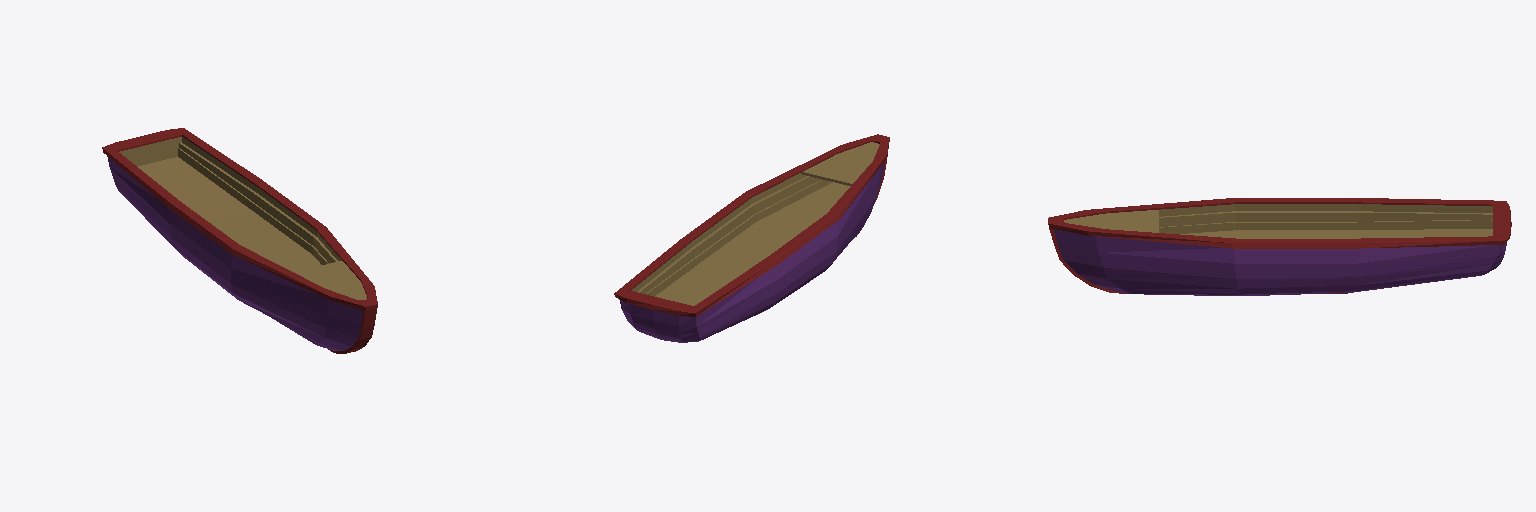
File: Boat_Body.obj
The picture shows the model from 3 angles: view 1: azimuth 30°, elevation 25°; view 2: azimuth 150°, elevation 25°; view 3: azimuth 270°, elevation 25°; orthographic projection.
Parts seen in each view (by area): view 1: Boat_Body Scene, textureEditorIsolateSelectSet Boat_Body Scene; view 2: Boat_Body Scene, textureEditorIsolateSelectSet Boat_Body Scene; view 3: Boat_Body Scene, textureEditorIsolateSelectSet Boat_Body Scene.
Part boxes in pixels (x1,y1,x2,y2): Boat_Body Scene: (107, 137, 377, 353); textureEditorIsolateSelectSet Boat_Body Scene: (102, 128, 377, 310); Boat_Body Scene: (619, 134, 888, 342); textureEditorIsolateSelectSet Boat_Body Scene: (614, 134, 889, 316); Boat_Body Scene: (1048, 204, 1506, 295); textureEditorIsolateSelectSet Boat_Body Scene: (1048, 198, 1511, 248).
Size of the model in its own units: 3.86 by 2.73 by 16.15.